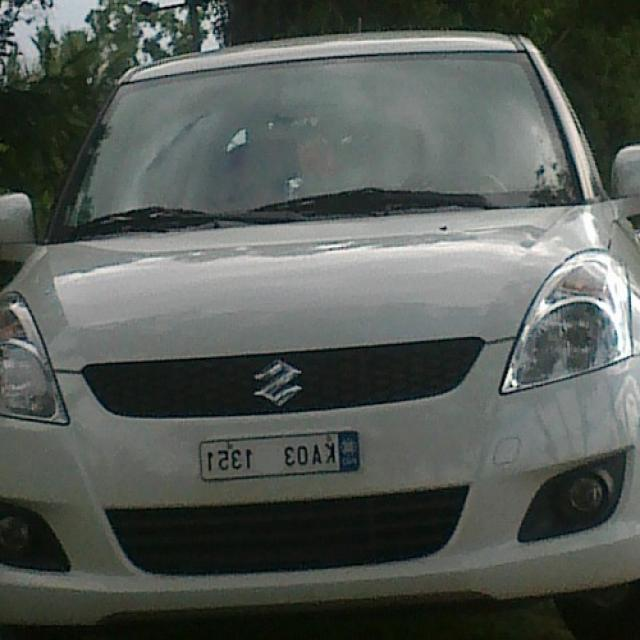number-plate: (168, 406, 382, 498)
